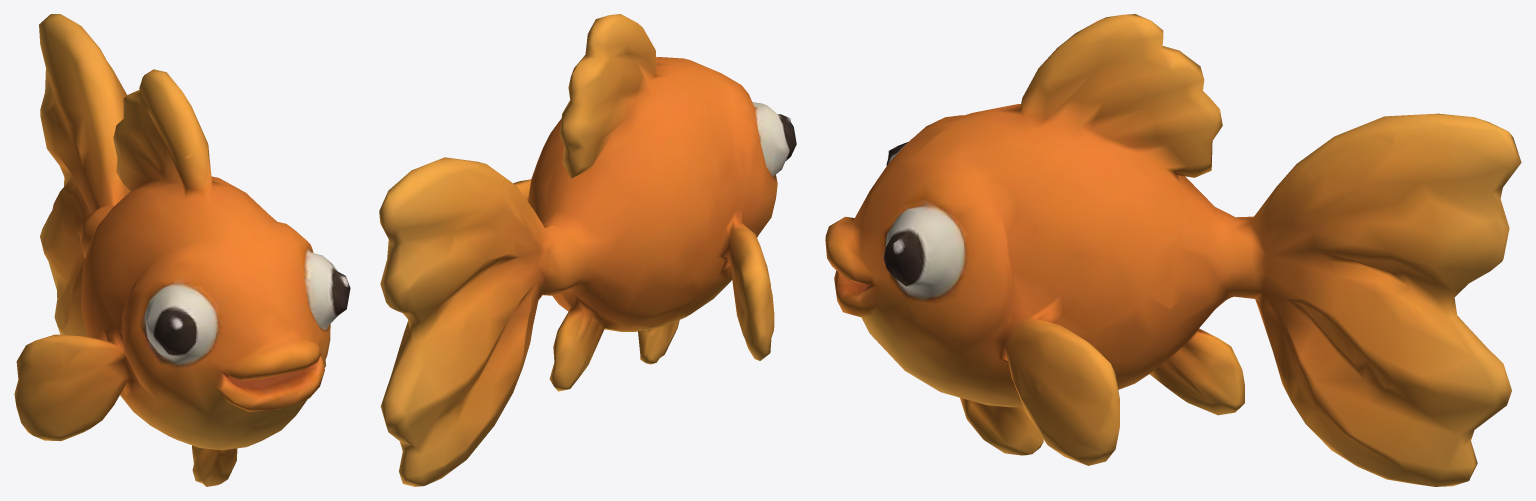
File: fish-goldfish.glb
3 renders of one model, left to right at view 1: azimuth 30°, elevation 25°; view 2: azimuth 150°, elevation 25°; view 3: azimuth 270°, elevation 25°, orthographic. The views are drawn at different scales.
Parts seen in each view (by area): view 1: tripo_node_4412827c-ded0-46d1-9633-761e816f85fd; view 2: tripo_node_4412827c-ded0-46d1-9633-761e816f85fd; view 3: tripo_node_4412827c-ded0-46d1-9633-761e816f85fd.
Boxes of the visible parts, bbox=[...] form: tripo_node_4412827c-ded0-46d1-9633-761e816f85fd: bbox=[14, 14, 350, 486]; tripo_node_4412827c-ded0-46d1-9633-761e816f85fd: bbox=[379, 14, 796, 486]; tripo_node_4412827c-ded0-46d1-9633-761e816f85fd: bbox=[825, 14, 1521, 486].
Bounding box in the file's own units: 0.5894 × 0.7024 × 1.
Materials: 1 (1 with a texture image).
